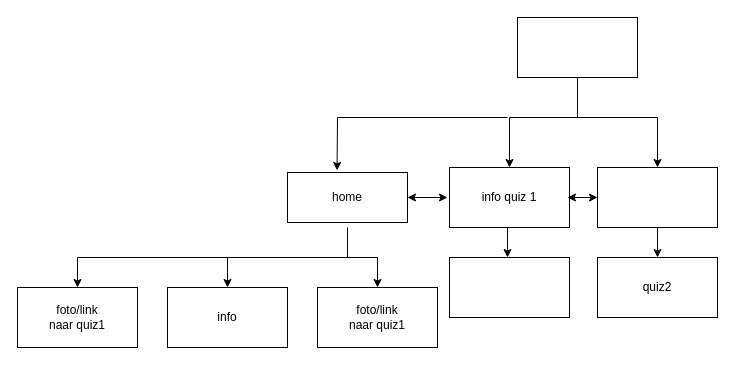
Some shapes in this 735 by 365 pixel diagram are drawn without their labels. The shapes that lost their labels are listed below. From the top down, each one's box as (x1, y1, x2, y2) in pixels, then its label:
(516, 16, 638, 78): index
(596, 166, 718, 228): info quiz 2
(448, 256, 570, 318): quiz1
